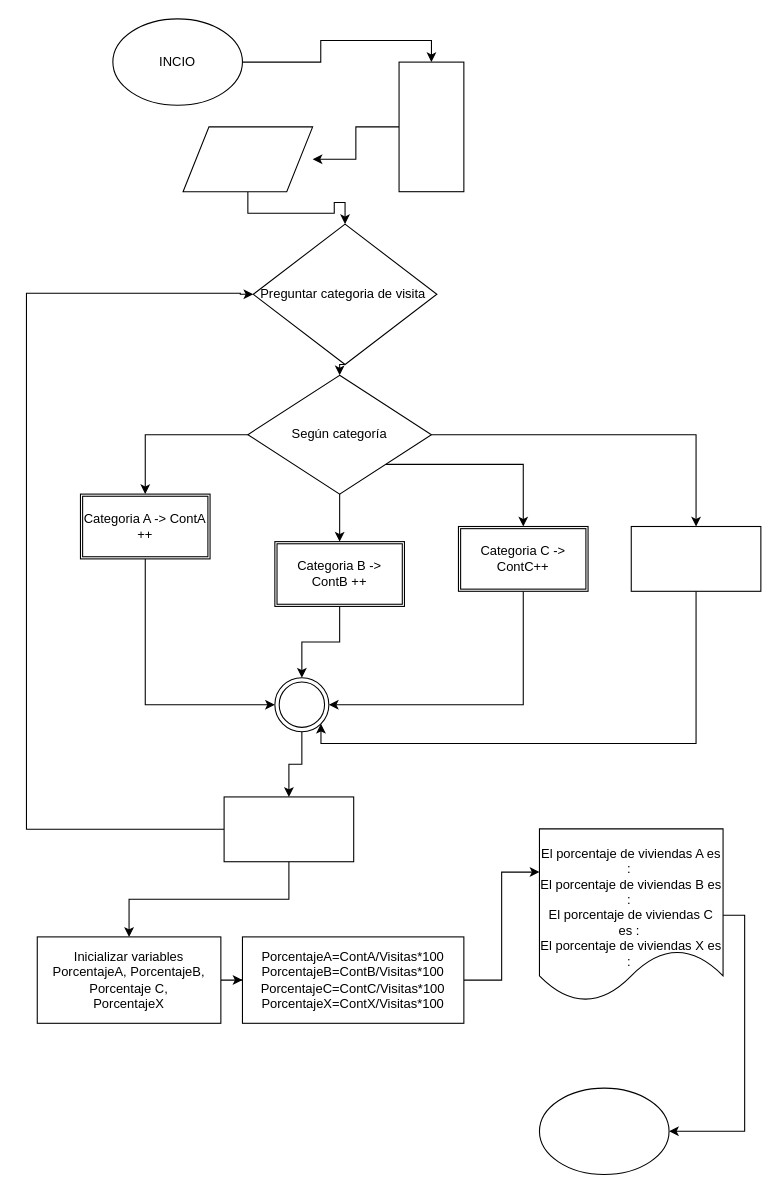
The diagram is 780 pixels wide and 1193 high, and some of its shapes have lost their labels. The centre of each missing label's shape, as x and y in pixels:
Categoria NO ES A B C o # --> ContX++: (x=695, y=558)
FIN: (x=603, y=1130)
Inicializar ContA, ContB, ContC, ContX: (x=431, y=126)
LEER NUMERO VISITAS: (x=247, y=159)
Mientras categoria =! #: (x=288, y=829)
